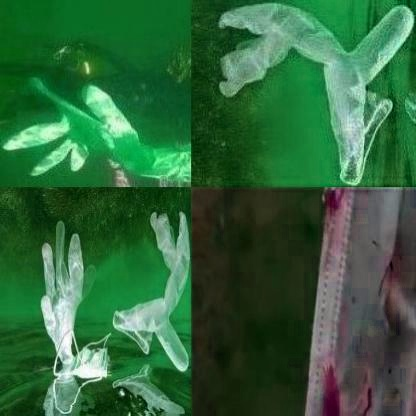Mask: (300, 187, 416, 415), (53, 329, 112, 384)
glove: (215, 0, 413, 186), (1, 76, 190, 186), (112, 209, 189, 373), (39, 214, 98, 355)
